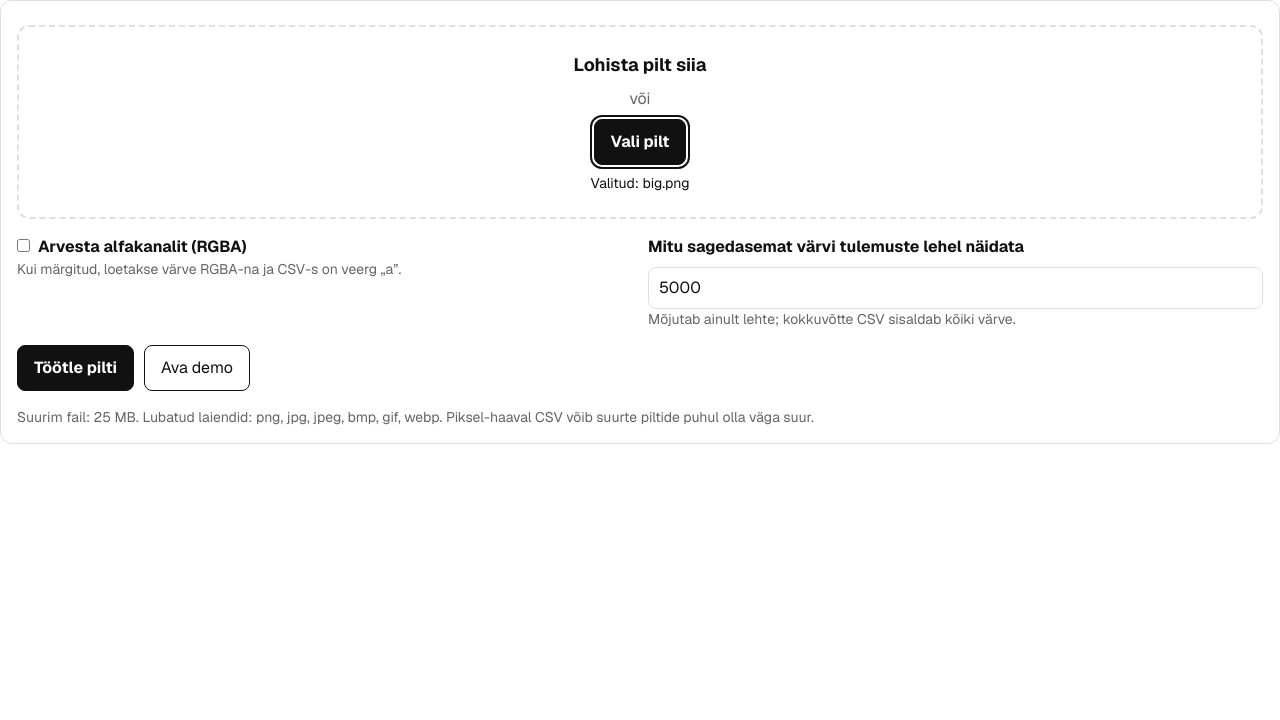
Scenario: UploadForm › rejects files over 25 MB
This screenshot has width=1280, height=720.
Earlier steps of the test are not shown.
Click the button "Töötle pilti" at [76, 368], box [17,345,134,391]
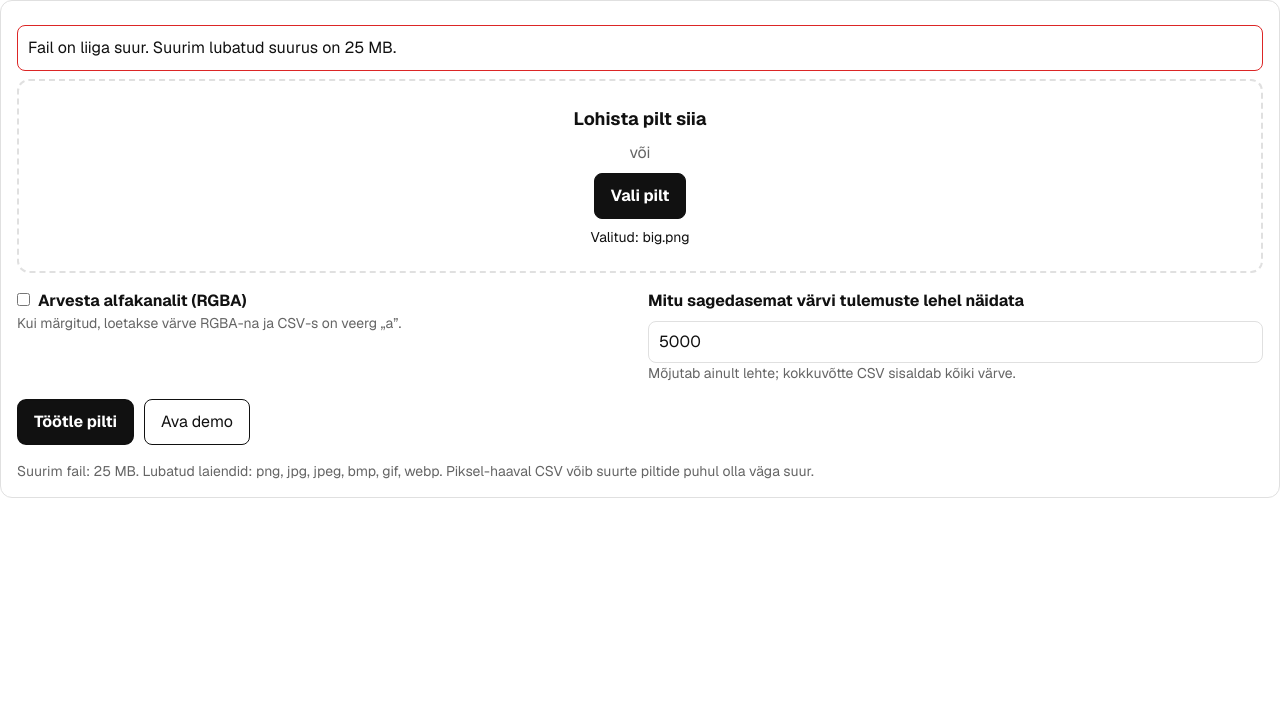
Check: the message shows "Suurim lubatud suurus on 25 MB", box [28,37,396,58]
